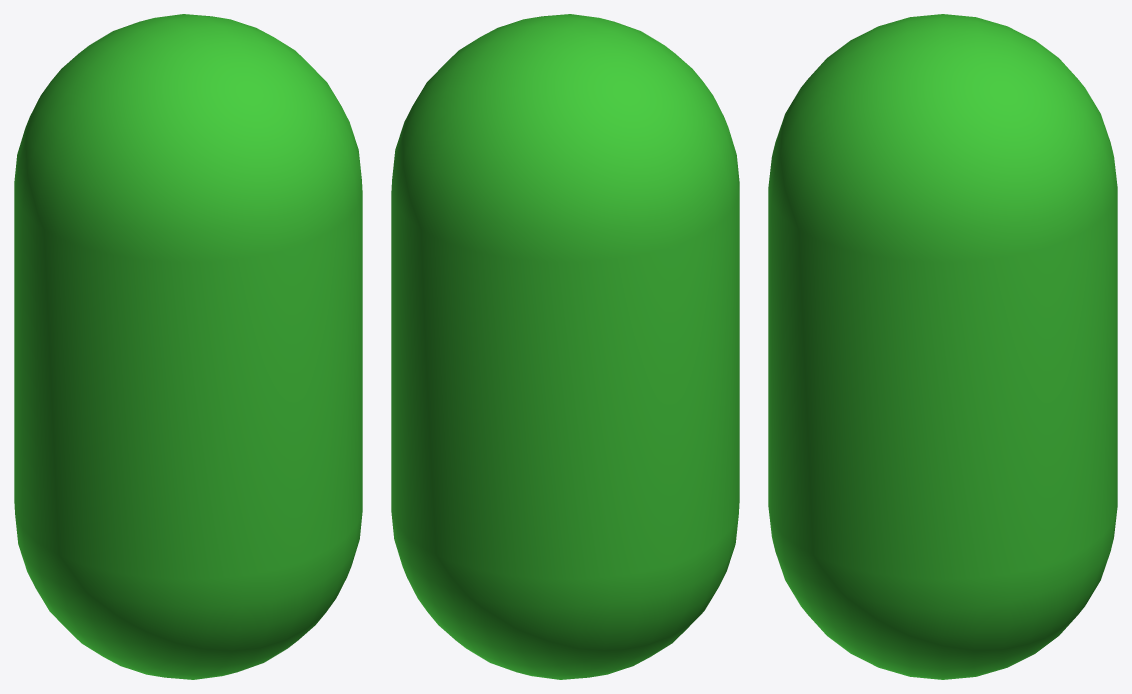
The model's file is BoostItem.fbx.
The picture shows the model from 3 angles, left to right: view 1: azimuth 30°, elevation 25°; view 2: azimuth 150°, elevation 25°; view 3: azimuth 270°, elevation 25°; orthographic projection.
Parts seen in each view (by area): view 1: BoostItem; view 2: BoostItem; view 3: BoostItem.
Part boxes in pixels (x1,y1,x2,y2): BoostItem: [14, 14, 362, 679]; BoostItem: [391, 14, 739, 679]; BoostItem: [768, 14, 1117, 679].
Size of the model in its own units: 100 by 200 by 100.
